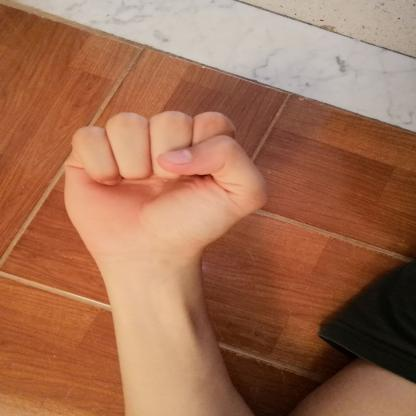SAD: (42, 94, 281, 278)
